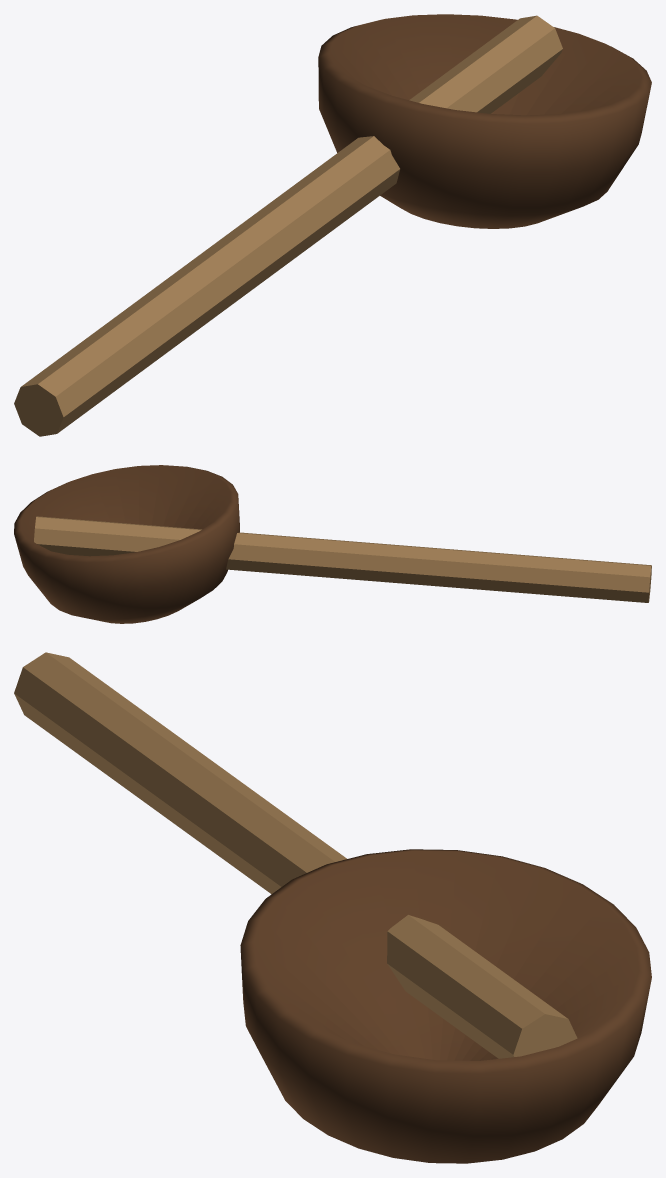
Rendered from gao_dua.glb.
The picture shows the model from 3 angles, top to bottom: view 1: azimuth 30°, elevation 25°; view 2: azimuth 150°, elevation 25°; view 3: azimuth 270°, elevation 25°; orthographic projection. The views are drawn at different scales.
Visible parts, largest first — view 1: gao_dua; view 2: gao_dua; view 3: gao_dua.
Part boxes in pixels (left/top/right/bottom): gao_dua: left=14, top=14, right=651, bottom=436; gao_dua: left=14, top=465, right=651, bottom=623; gao_dua: left=14, top=652, right=651, bottom=1163.
Bounding box in the file's own units: 0.3263 × 0.0665 × 0.1916.
